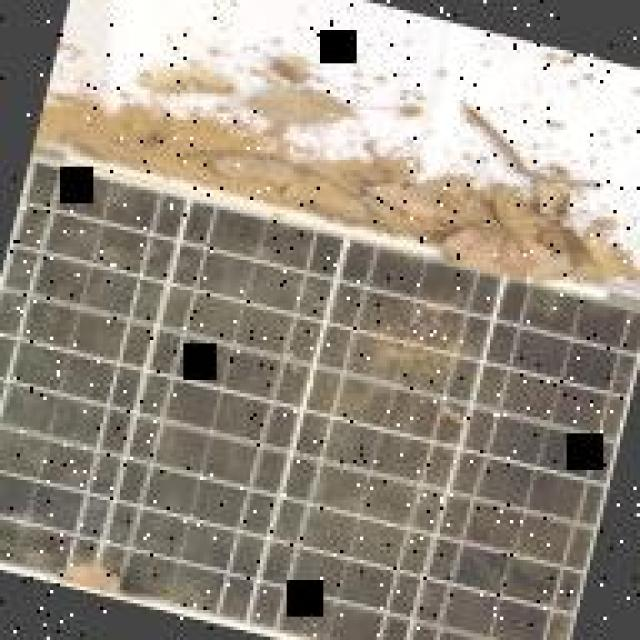dust-solar-panel: (0, 151, 640, 640)
